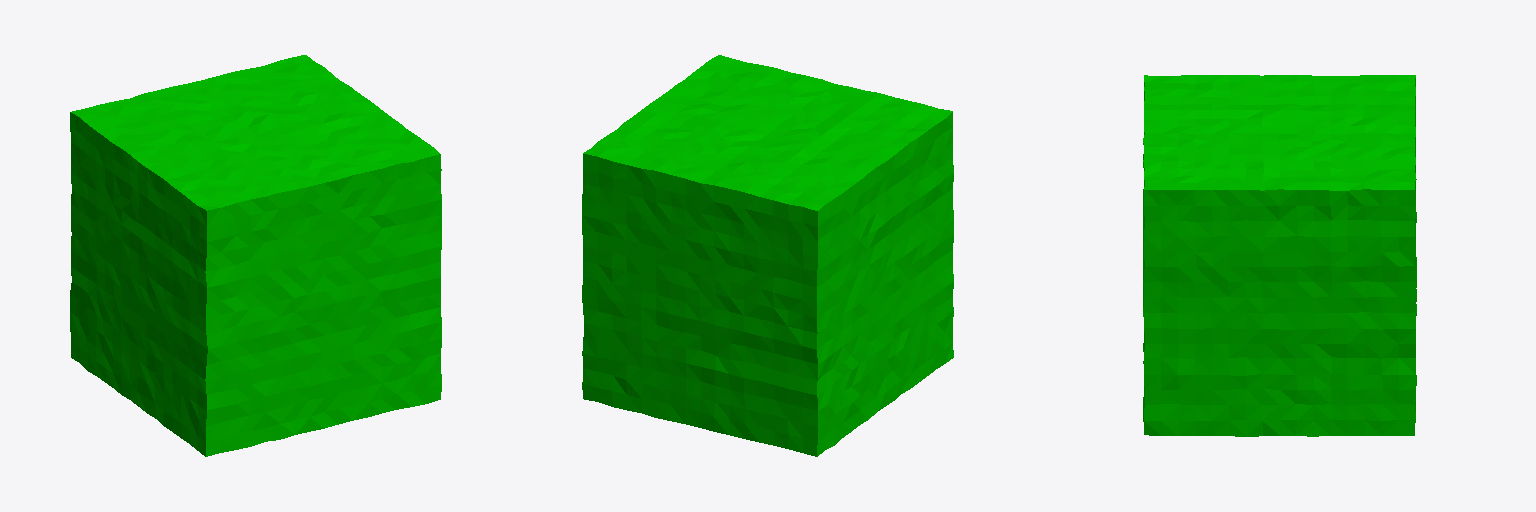
Rendered from Cube_noised.obj.
3 views of the same model, side by side, from view 1: azimuth 30°, elevation 25°; view 2: azimuth 150°, elevation 25°; view 3: azimuth 270°, elevation 25° (orthographic).
Visible parts, largest first — view 1: Cube; view 2: Cube; view 3: Cube.
Part boxes in pixels (bbox=[...]): Cube: bbox=[70, 55, 441, 456]; Cube: bbox=[582, 55, 953, 456]; Cube: bbox=[1143, 75, 1416, 436].
Size of the model in its own units: 5.18 by 5.17 by 5.17.